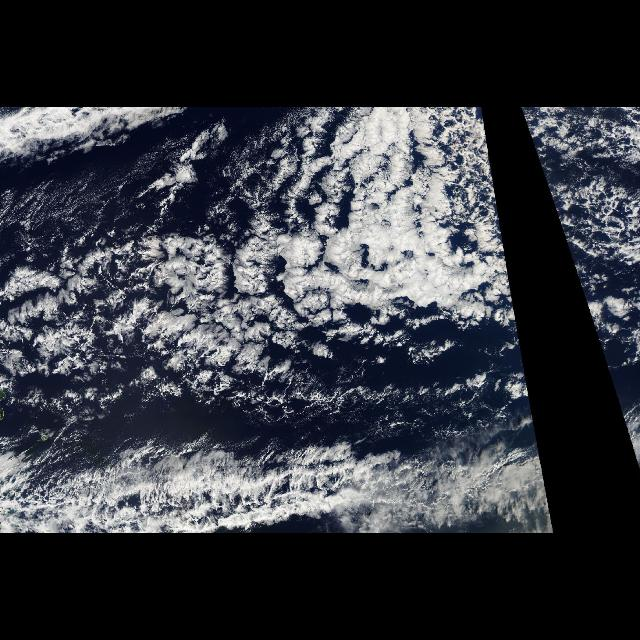Fish: (4, 441, 554, 533)
Flower: (7, 120, 519, 434), (523, 120, 551, 197)
Gravel: (534, 107, 640, 281)
Sugar: (0, 144, 226, 242)
